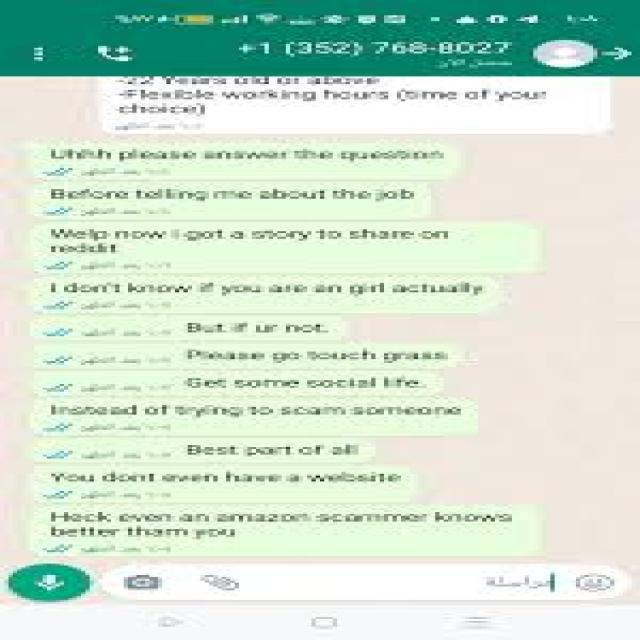scam: (44, 503, 538, 541), (36, 225, 484, 264), (37, 180, 431, 213), (40, 276, 497, 304), (37, 144, 457, 171), (40, 398, 465, 424), (33, 462, 420, 488), (178, 348, 470, 368), (190, 372, 430, 396), (168, 440, 381, 464), (174, 318, 340, 338)
